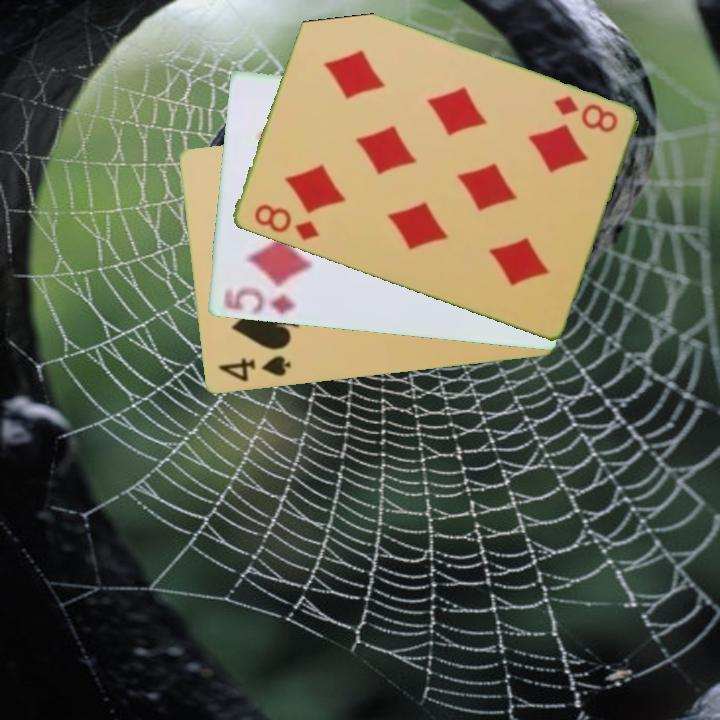4s: (214, 352, 294, 385)
5d: (219, 284, 299, 318)
8d: (250, 200, 322, 244), (549, 92, 620, 136)
